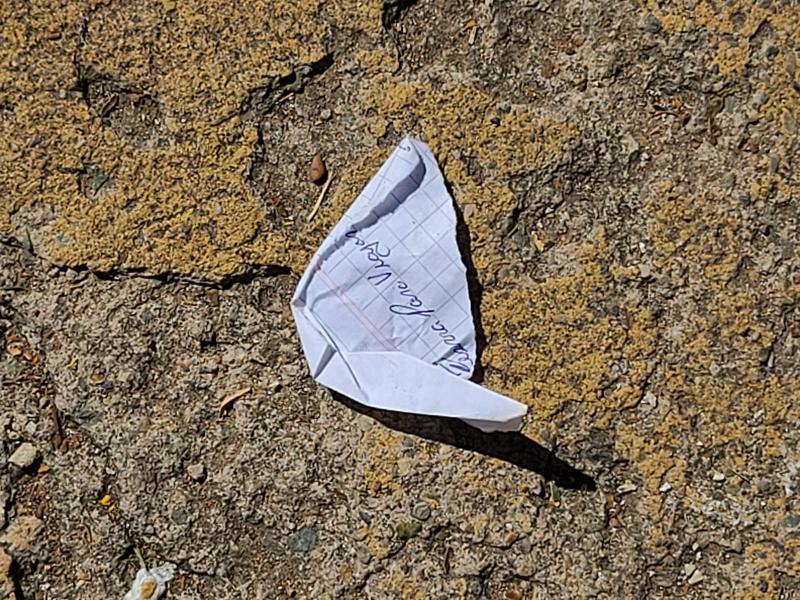papel: (290, 138, 528, 433)
